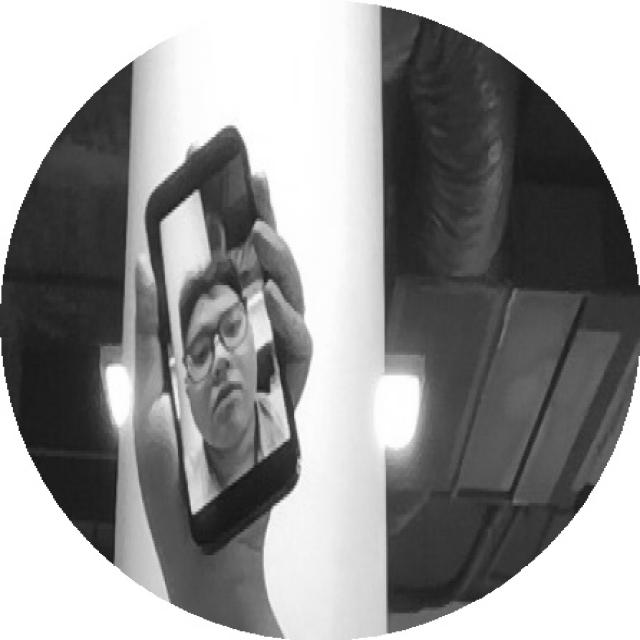fake: (110, 122, 350, 560), (133, 123, 328, 568)
